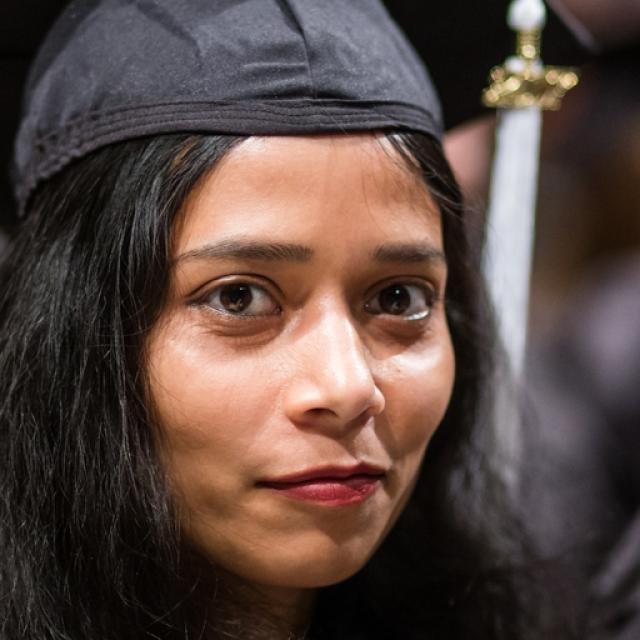content: (144, 127, 458, 584)
